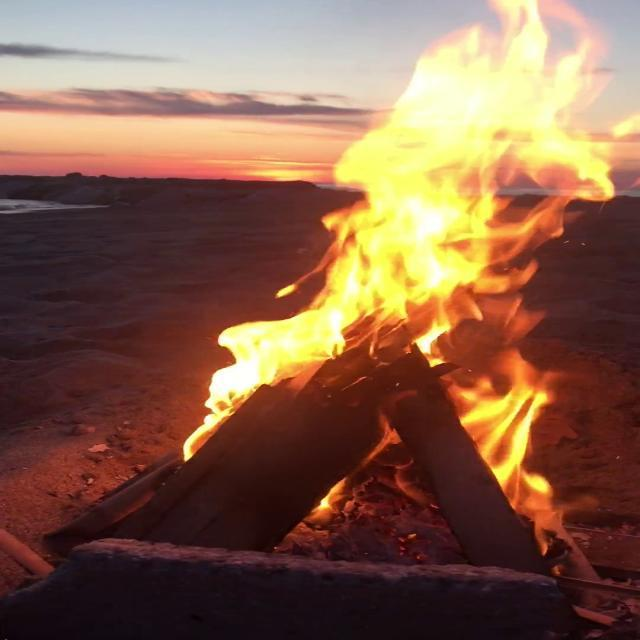Fire: (185, 0, 640, 483)
